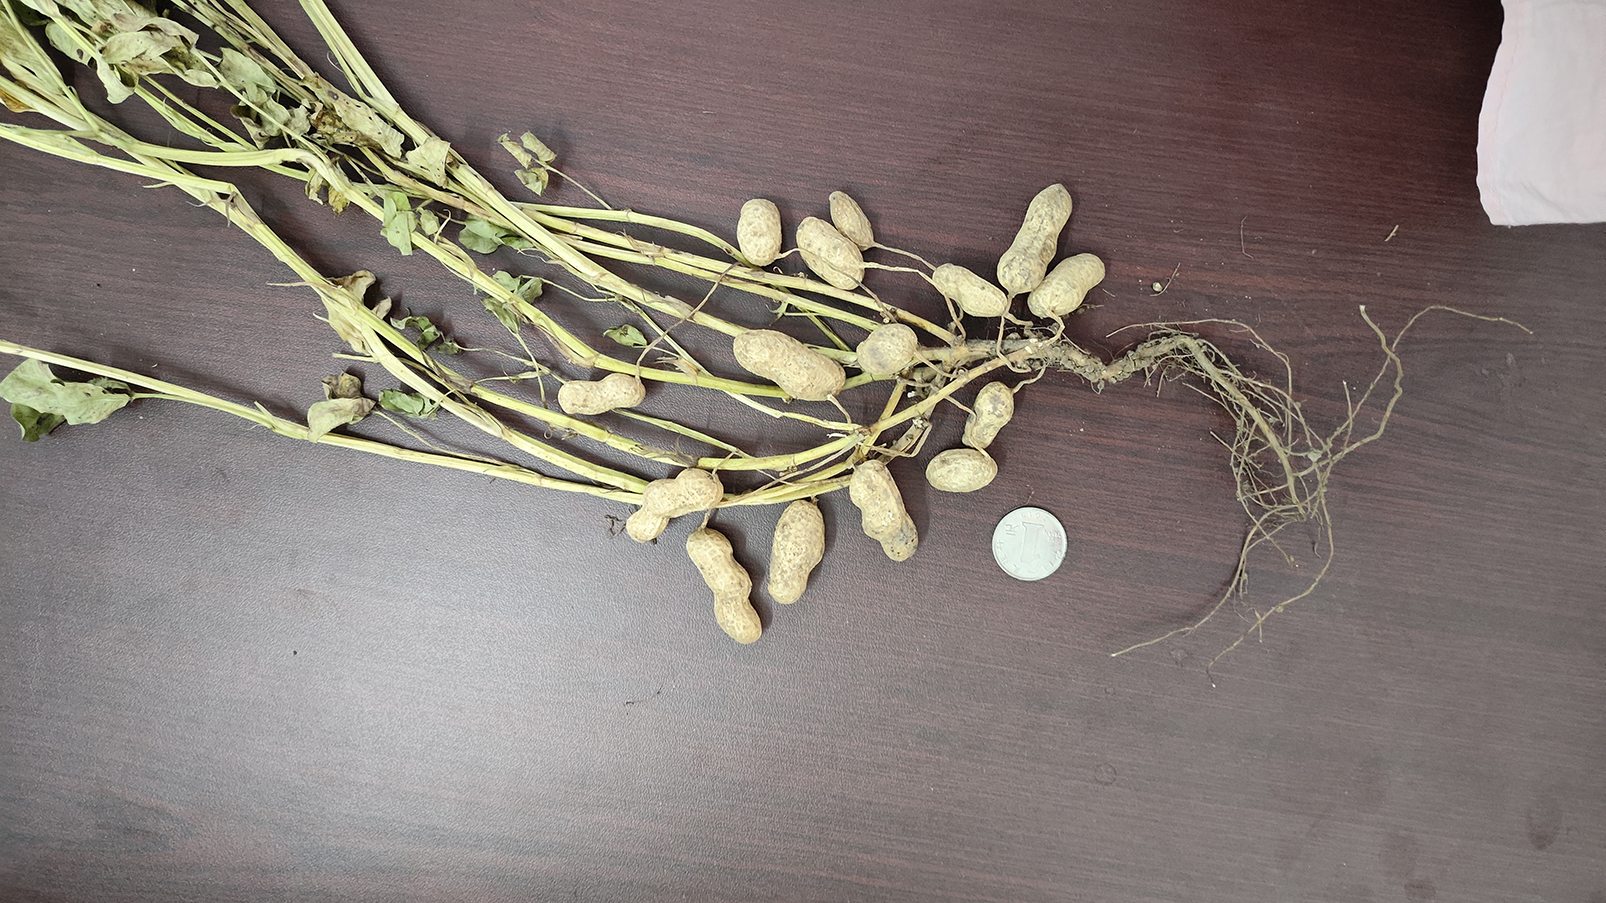h: (997, 181, 1075, 295), (686, 530, 764, 642), (734, 327, 846, 399), (627, 465, 725, 542), (847, 456, 919, 561), (768, 499, 826, 604), (1027, 252, 1107, 318), (797, 216, 864, 287), (928, 262, 1008, 318), (557, 372, 646, 413), (854, 322, 918, 376), (962, 380, 1014, 447), (735, 197, 783, 266), (923, 448, 998, 491), (827, 189, 872, 249)
